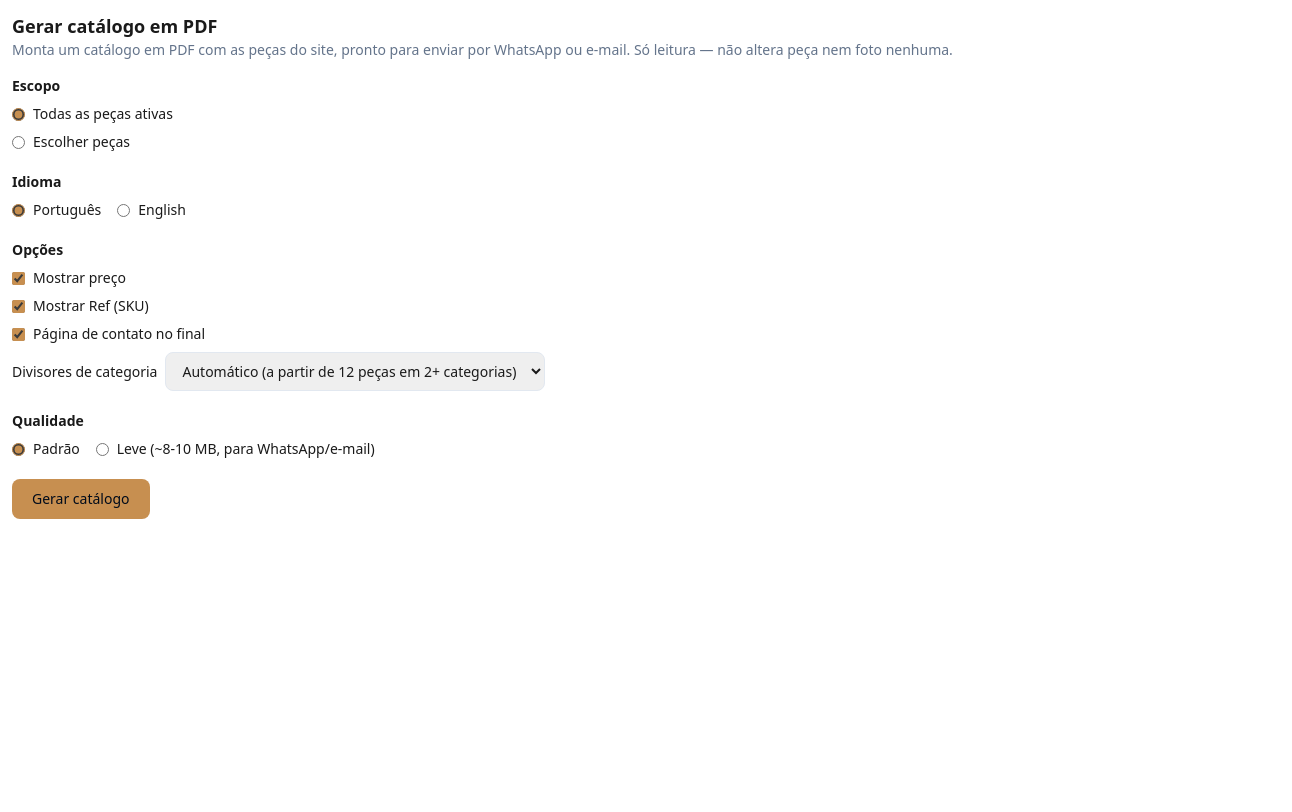
Test: CatalogGenerator › escolher peças sem nenhuma selecionada desabilita o botão Gerar
What coordinates should you click on to do the following:
click the radio button labelled "Escolher peças"
I would click on:
 (18, 142)
Its box is [12, 136, 25, 148].
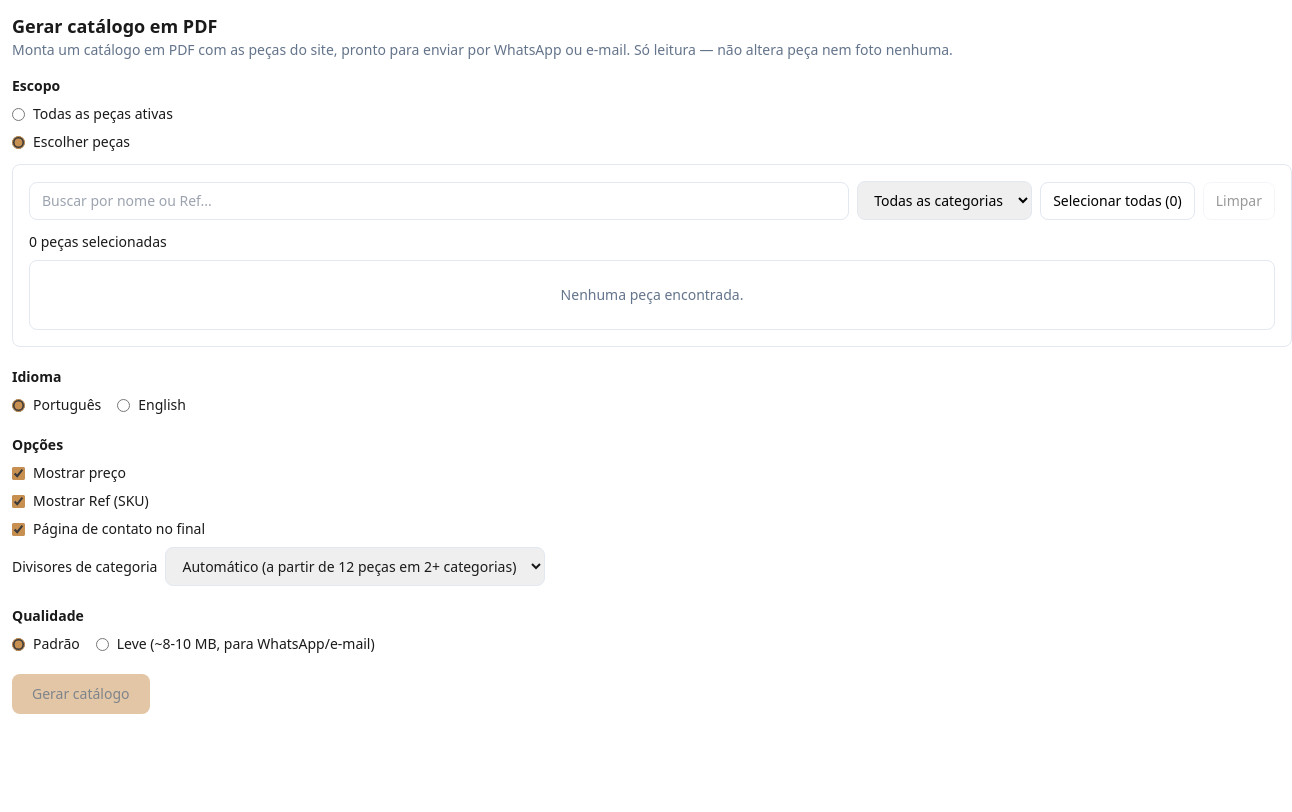
Now the button "Gerar catálogo" is disabled, box [12, 674, 150, 714]
